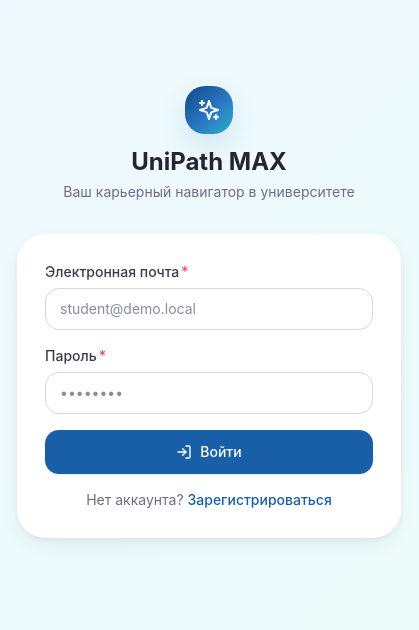
Test: login after MAX account switch › explains that a rejected MAX context needs a fresh app launch
In the field with placeholder "student@demo.local": (209, 309) [45,288,373,330], type "student@example.test"
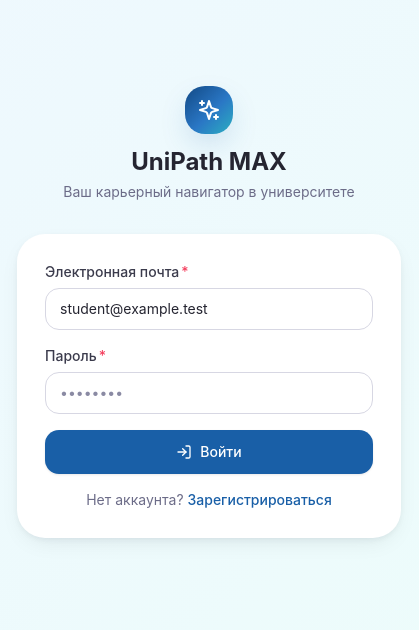
In the password field with placeholder "••••••••": (209, 393) [45,372,373,414], type "fixture-password"
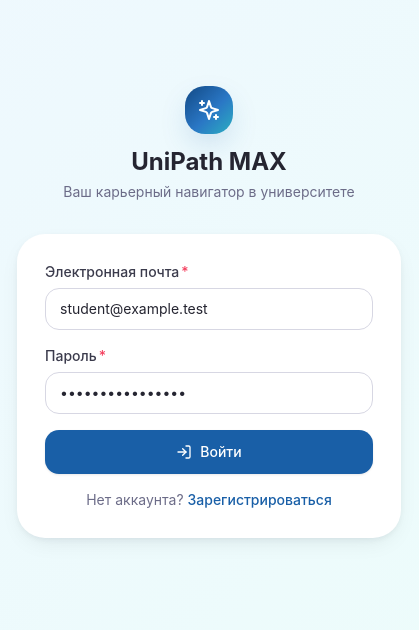
Click the button "Войти": (209, 452) [45,430,373,474]
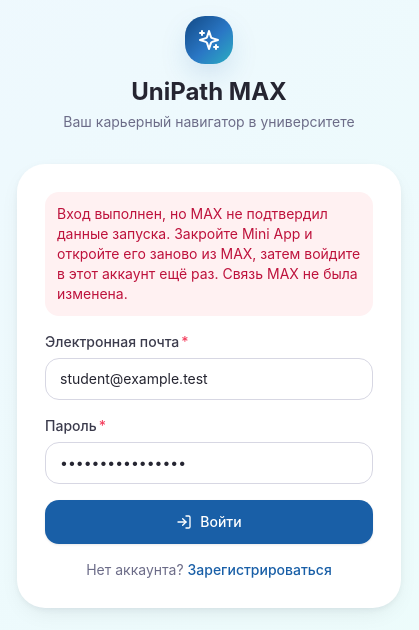
Expected: the message shows "Закройте Mini App и откройте его заново из MAX", [57,205,360,302]
